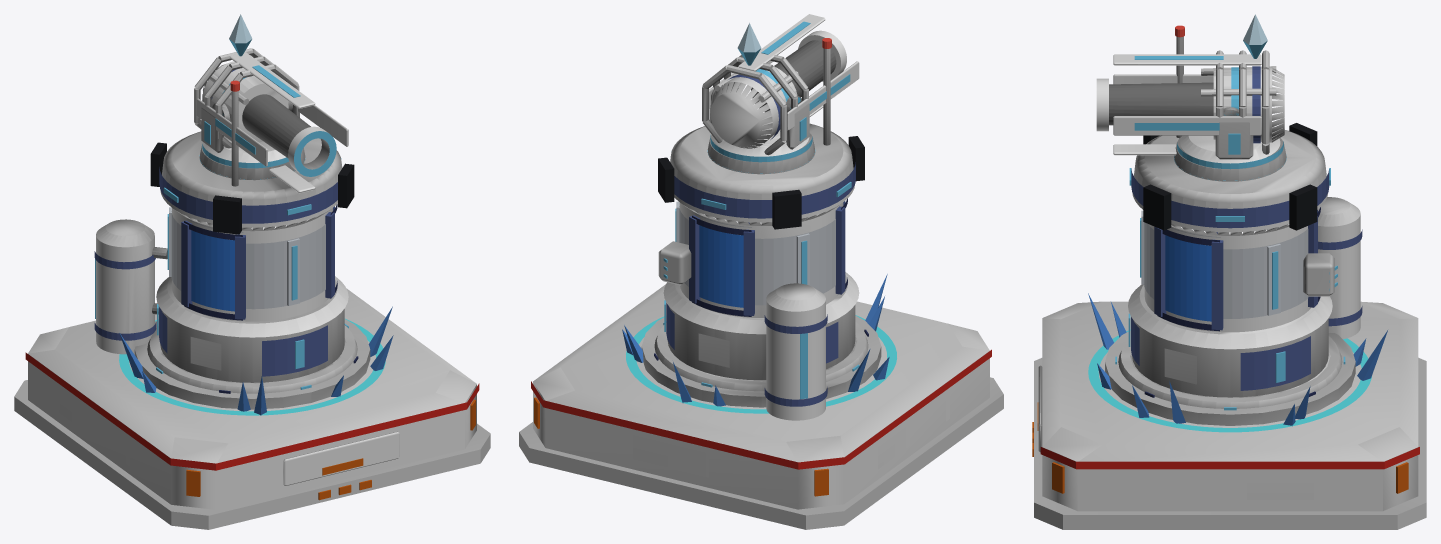
File: ice_2.glb
3 views of the same model, side by side, from view 1: azimuth 30°, elevation 25°; view 2: azimuth 150°, elevation 25°; view 3: azimuth 270°, elevation 25° (orthographic). The views are drawn at different scales.
Parts seen in each view (by area): view 1: Rumpf, Kanone, Kammern, Kopf; view 2: Rumpf, Kanone, Kopf, Kammern, Kristall; view 3: Rumpf, Kanone, Kopf, Kammern, Kristall.
Boxes of the visible parts, <box> form: Rumpf: <box>14,80,490,529</box>; Kanone: <box>194,48,348,193</box>; Kammern: <box>191,207,334,311</box>; Kopf: <box>199,104,305,180</box>; Rumpf: <box>519,38,1003,529</box>; Kanone: <box>702,14,859,155</box>; Kopf: <box>707,89,815,174</box>; Kammern: <box>699,202,844,307</box>; Kristall: <box>737,23,761,65</box>; Rumpf: <box>1032,25,1426,529</box>; Kanone: <box>1096,50,1284,156</box>; Kopf: <box>1174,122,1286,181</box>; Kammern: <box>1165,212,1317,321</box>; Kristall: <box>1243,14,1267,58</box>.
Size of the model in its own units: 0.94 by 1.14 by 0.944.
